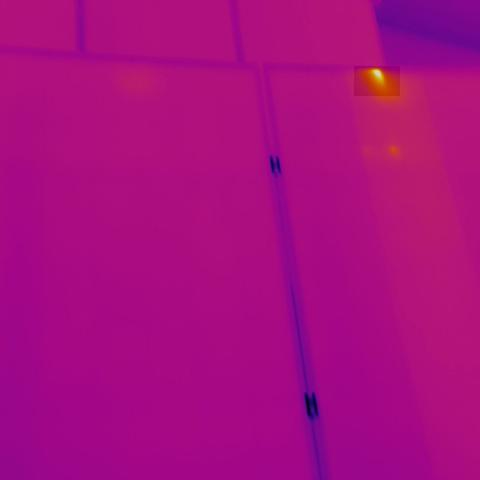fault: (354, 66, 400, 96)
